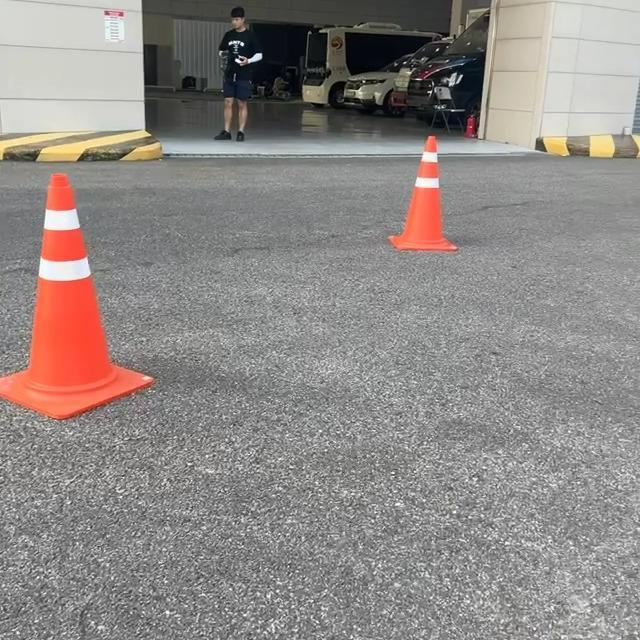fallen_object: (0, 149, 153, 408), (362, 105, 478, 255)
